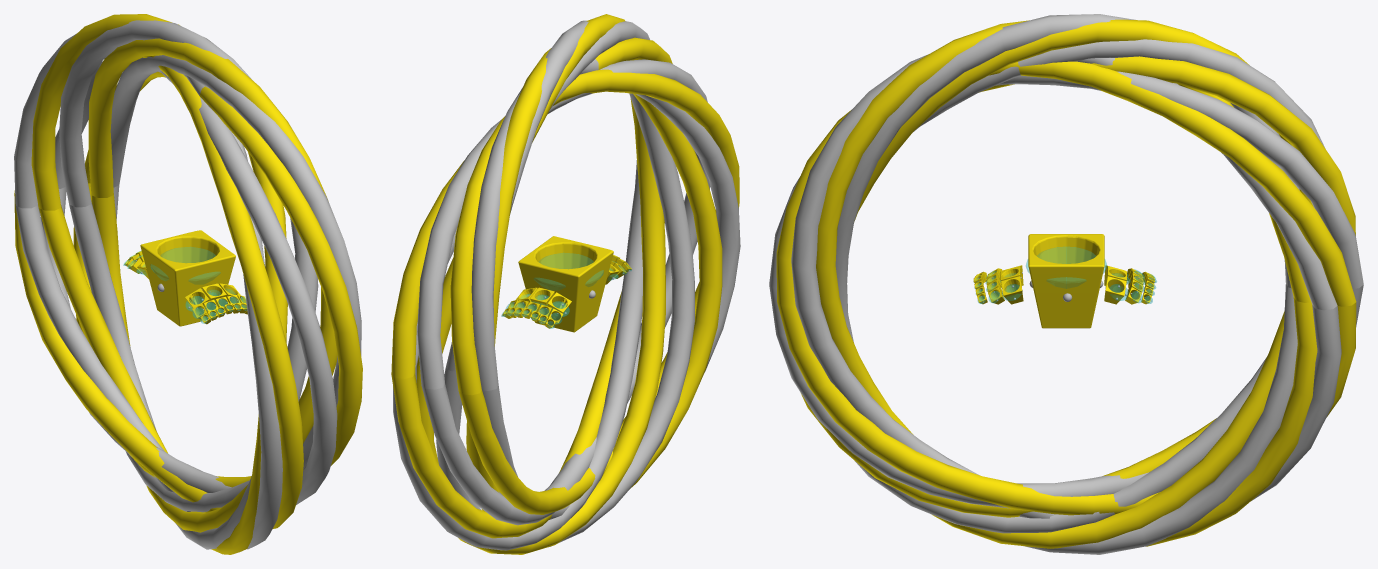
The model's file is خاتم الماس صغير.glb.
3 views of the same model, side by side, from view 1: azimuth 30°, elevation 25°; view 2: azimuth 150°, elevation 25°; view 3: azimuth 270°, elevation 25° (orthographic). The views are drawn at different scales.
Parts seen in each view (by area): view 1: polySurface8, polySurface2, polySurface3, polySurface1, polySurface7, polySurface4, polySurface5, polySurface6, pCube3, pCube9, pCube12, pCube20; view 2: polySurface8, polySurface7, polySurface3, polySurface4, polySurface6, polySurface2, polySurface1, polySurface5, pCube3, pCube9, pCube20, pCube12; view 3: polySurface6, polySurface5, polySurface4, polySurface3, polySurface2, polySurface7, polySurface1, polySurface8, pCube3, pCube9, pCube12.
Boxes of the visible parts, x1,y1,x2,y2 form: polySurface8: (14, 55, 303, 529); polySurface2: (31, 14, 287, 554); polySurface3: (59, 20, 318, 549); polySurface1: (14, 33, 282, 549); polySurface7: (41, 61, 337, 504); polySurface4: (88, 38, 337, 532); polySurface5: (110, 55, 361, 512); polySurface6: (73, 71, 362, 487); pCube3: (140, 230, 235, 326); pCube9: (136, 261, 240, 315); pCube12: (127, 255, 246, 319); pCube20: (123, 250, 247, 324); polySurface8: (450, 69, 739, 514); polySurface7: (417, 59, 710, 525); polySurface3: (436, 20, 694, 547); polySurface4: (416, 14, 665, 554); polySurface6: (391, 37, 672, 538); polySurface2: (466, 48, 722, 511); polySurface1: (471, 59, 740, 519); polySurface5: (393, 21, 649, 550); pCube3: (518, 236, 613, 332); pCube9: (515, 264, 619, 318); pCube20: (501, 255, 631, 328); pCube12: (506, 261, 627, 324); polySurface6: (776, 61, 1356, 515); polySurface5: (791, 53, 1341, 522); polySurface4: (816, 20, 1317, 546); polySurface3: (835, 14, 1299, 554); polySurface2: (854, 19, 1313, 548); polySurface7: (769, 71, 1363, 508); polySurface1: (855, 39, 1325, 533); polySurface8: (801, 56, 1355, 517); pCube3: (1026, 234, 1106, 328); pCube9: (1000, 265, 1130, 304); pCube12: (985, 268, 1145, 304).
Bounding box in the file's own units: 1304 × 6109 × 6124.
